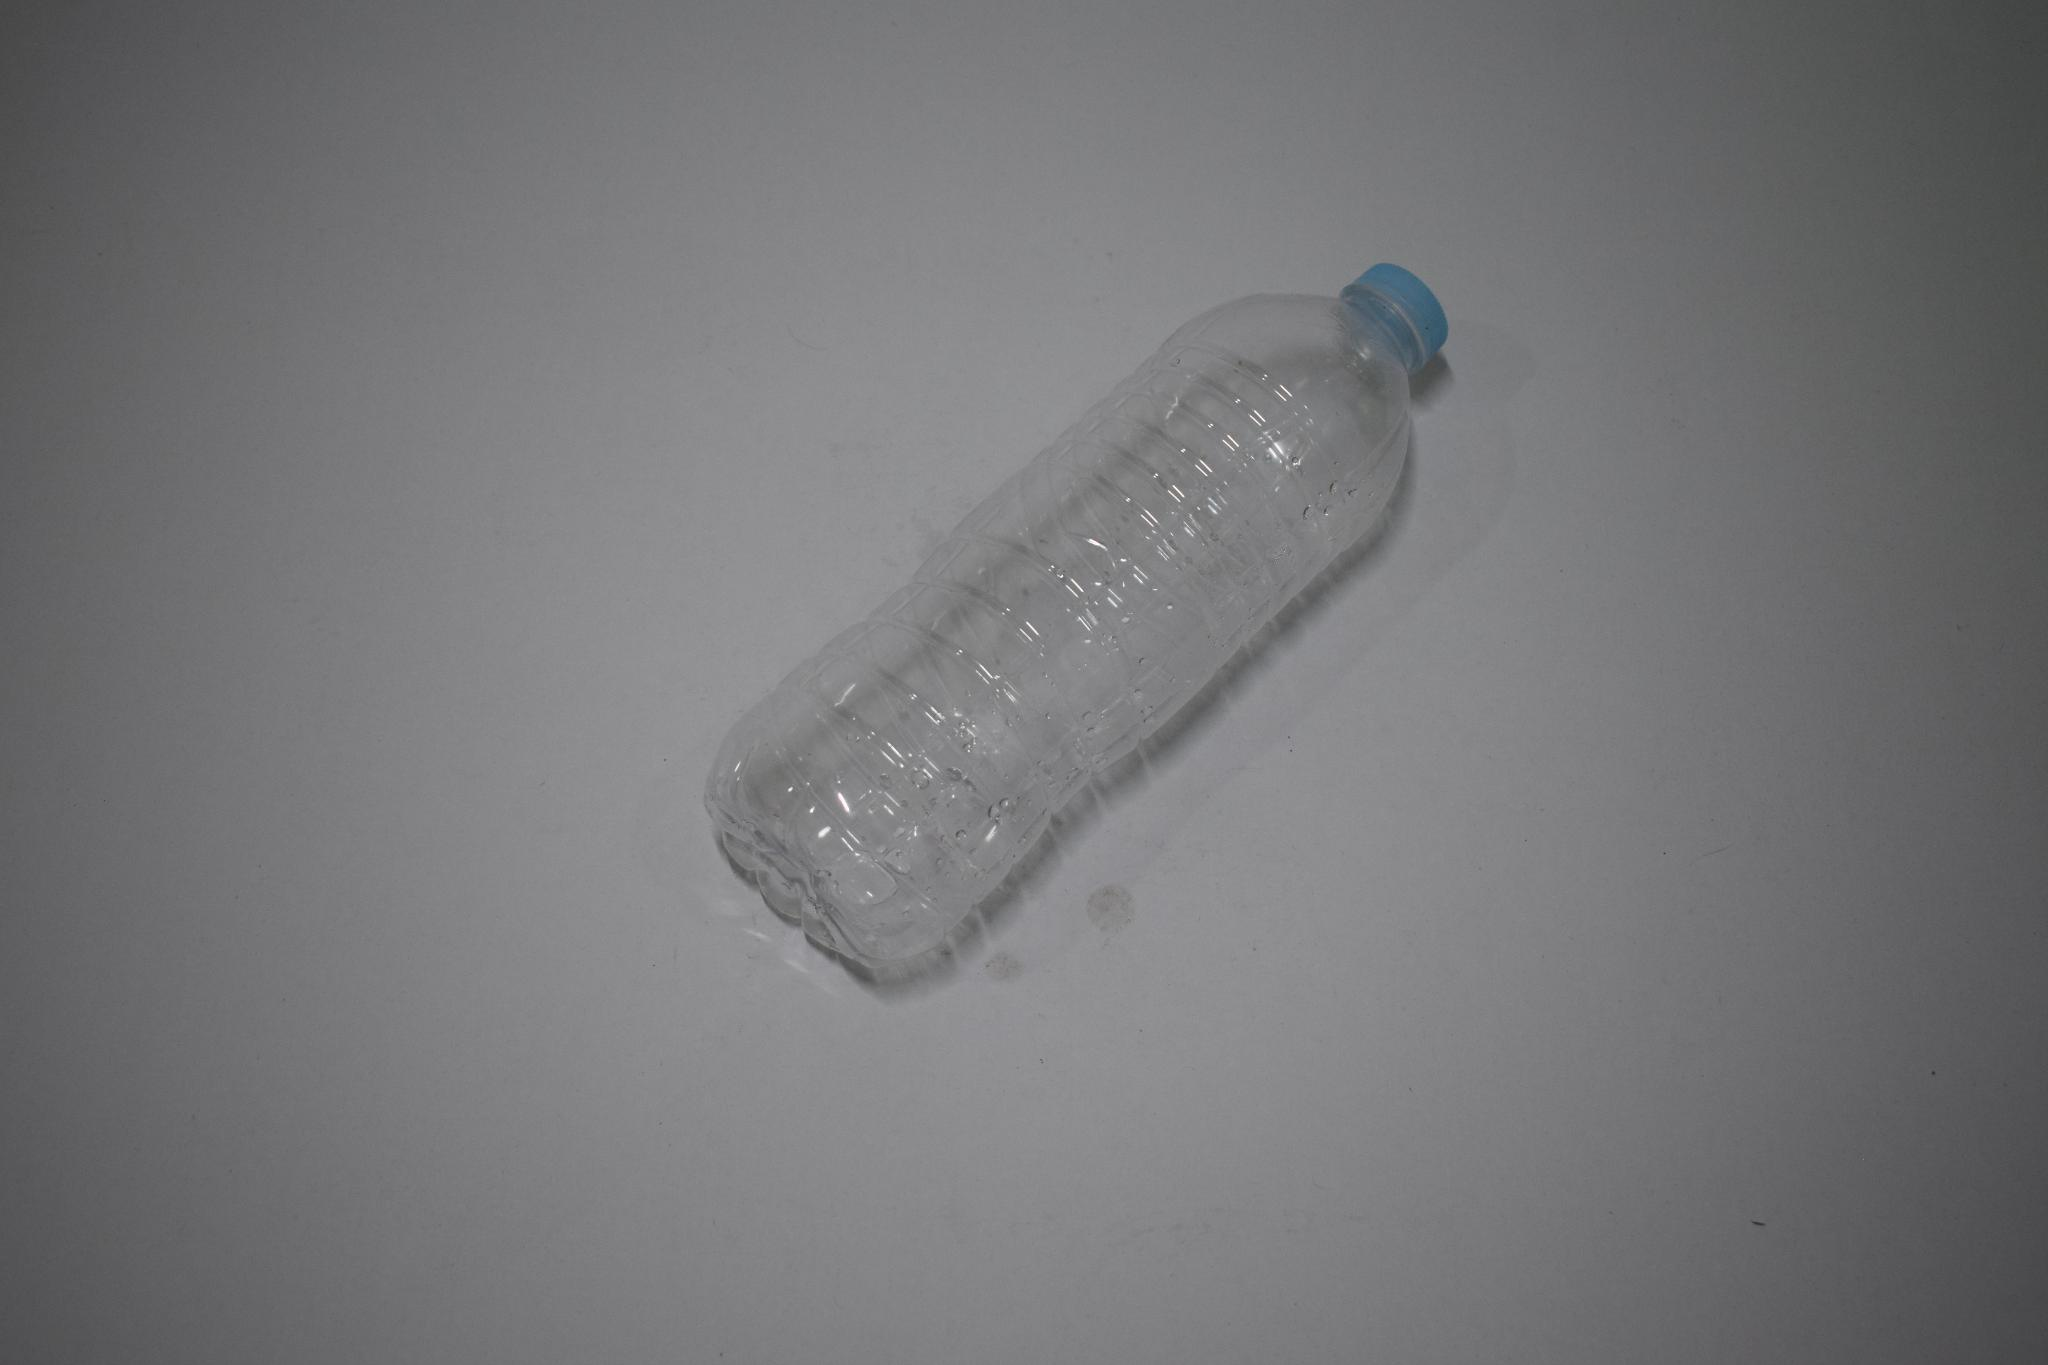bottle: (683, 210, 1495, 1066)
